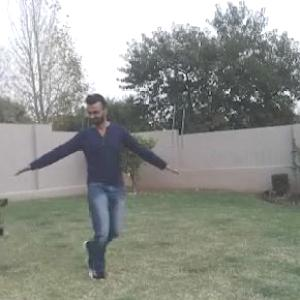land: (28, 100, 175, 263)
